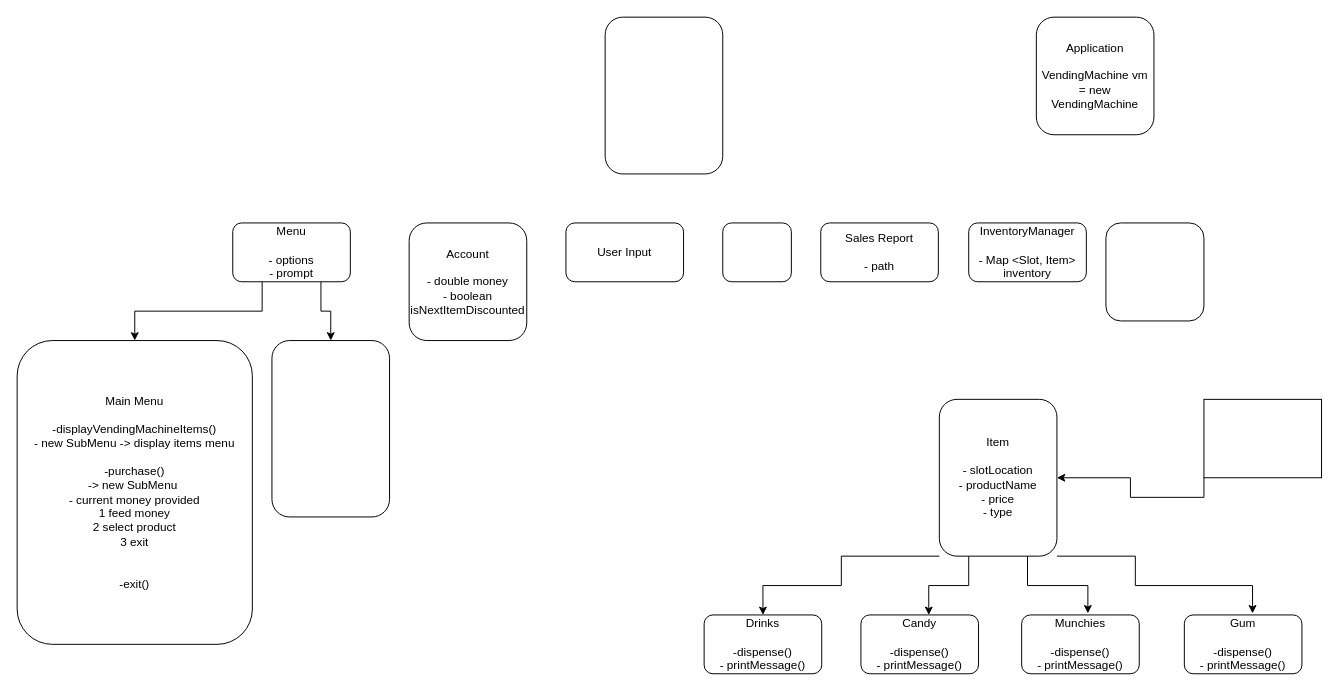
Some shapes in this 1339 by 691 pixel diagram are drawn without their labels. Each missing label, with the box of its shape:
Log - path: (722, 222, 791, 282)
Slot location productRemaining: (1105, 222, 1204, 321)
Sub Menu: (271, 340, 390, 517)
Vendable -dispense() - printMessage(): (1203, 398, 1322, 478)
Vending Machine - InventoryManager im - Account account - readInventory(): (604, 16, 723, 174)
